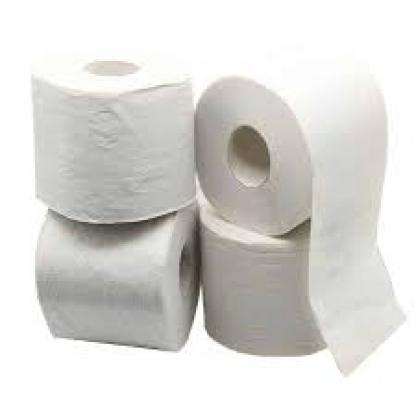tissue: (26, 49, 197, 218)
